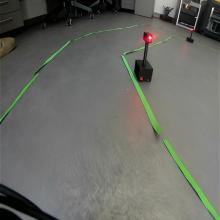red: (142, 31, 154, 44)
